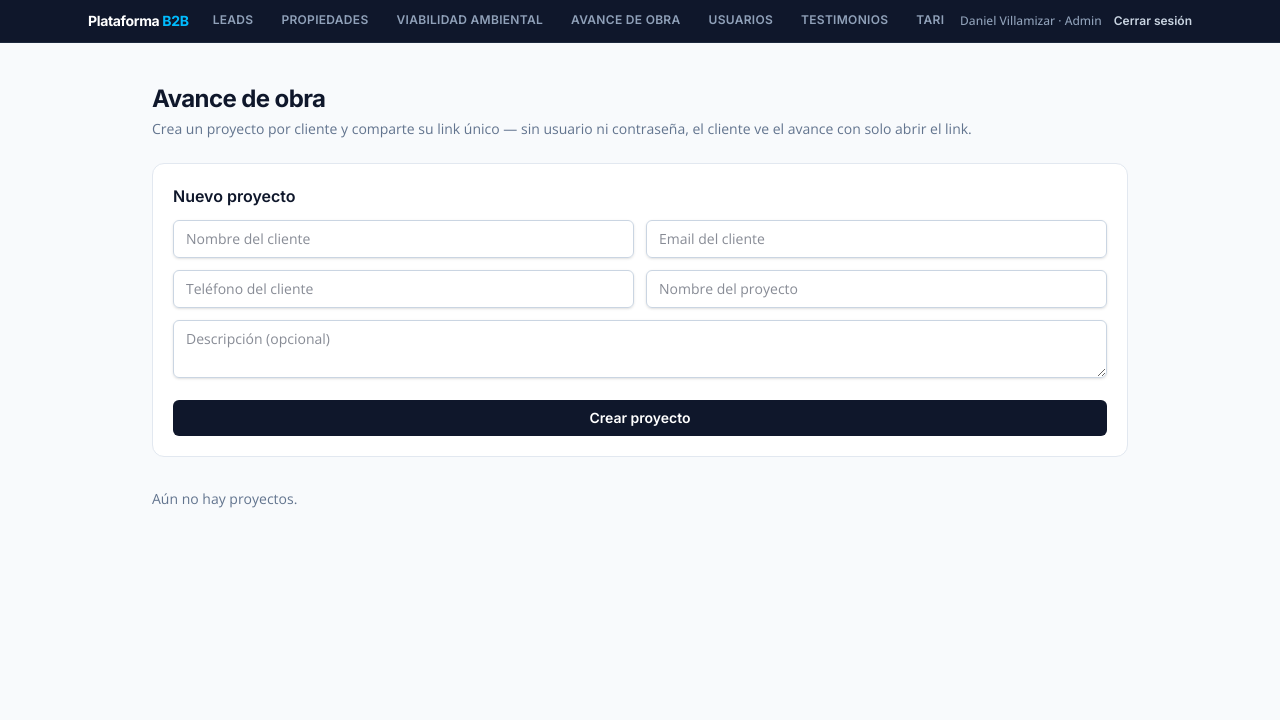
it: ObrasAdminPage › crear un proyecto muestra el link único para compartir con el cliente
Expected: the text "Aún no hay proyectos." is shown, [152, 489, 297, 508]
Type "Ana Restrepo" into the field with placeholder "Nombre del cliente" at coordinates (404, 239), box [173, 220, 634, 258]
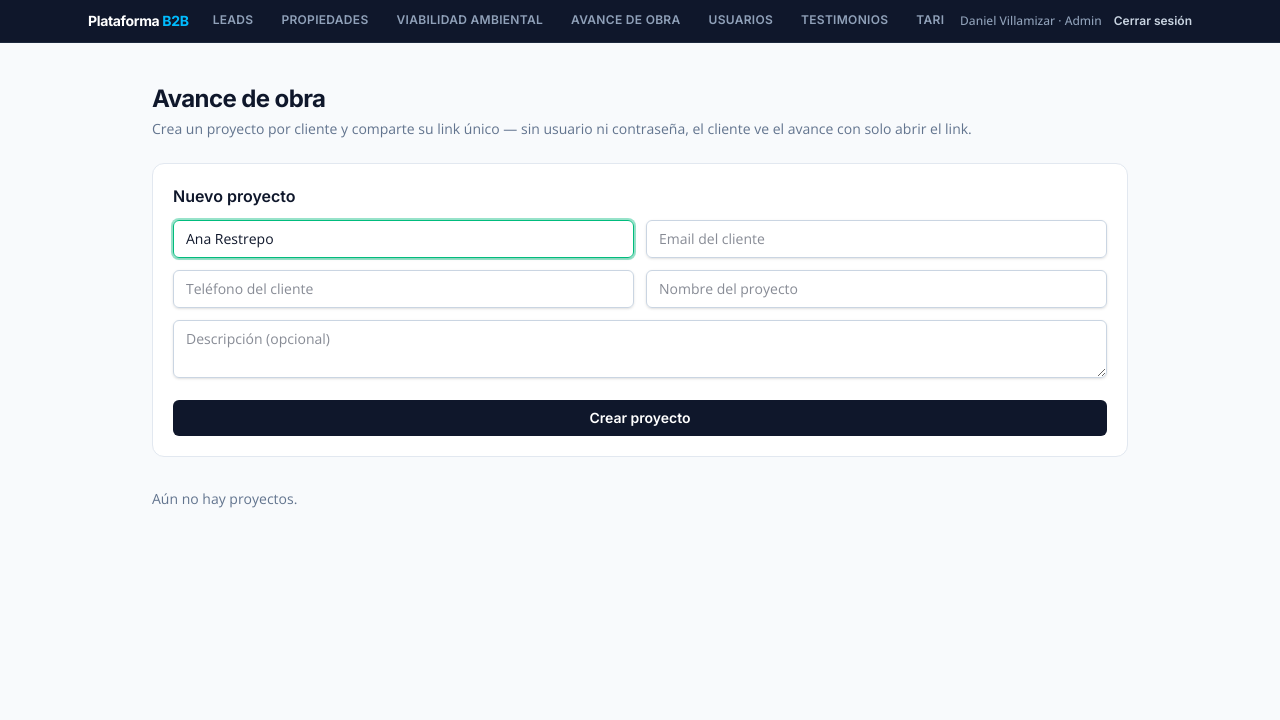
Type "ana@example.com" into the field with placeholder "Email del cliente" at coordinates (876, 239), box [646, 220, 1107, 258]
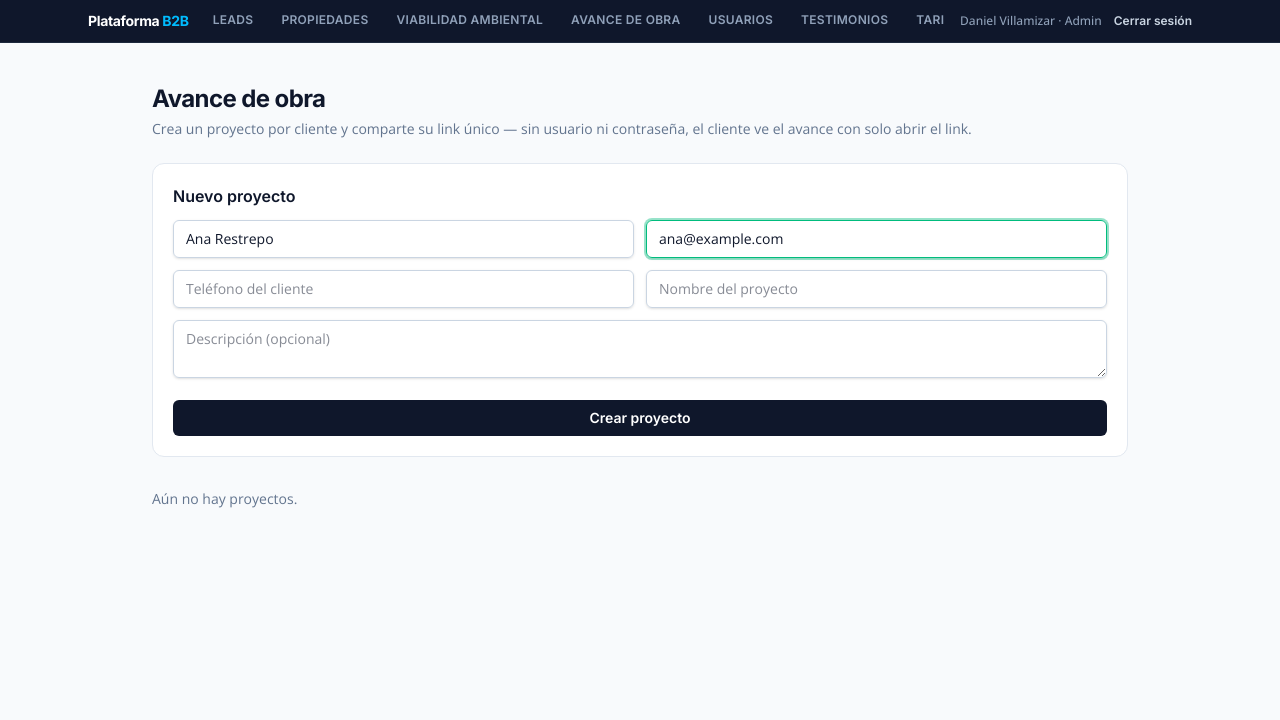
Type "3109876543" into the field with placeholder "Teléfono del cliente" at coordinates (404, 289), box [173, 270, 634, 308]
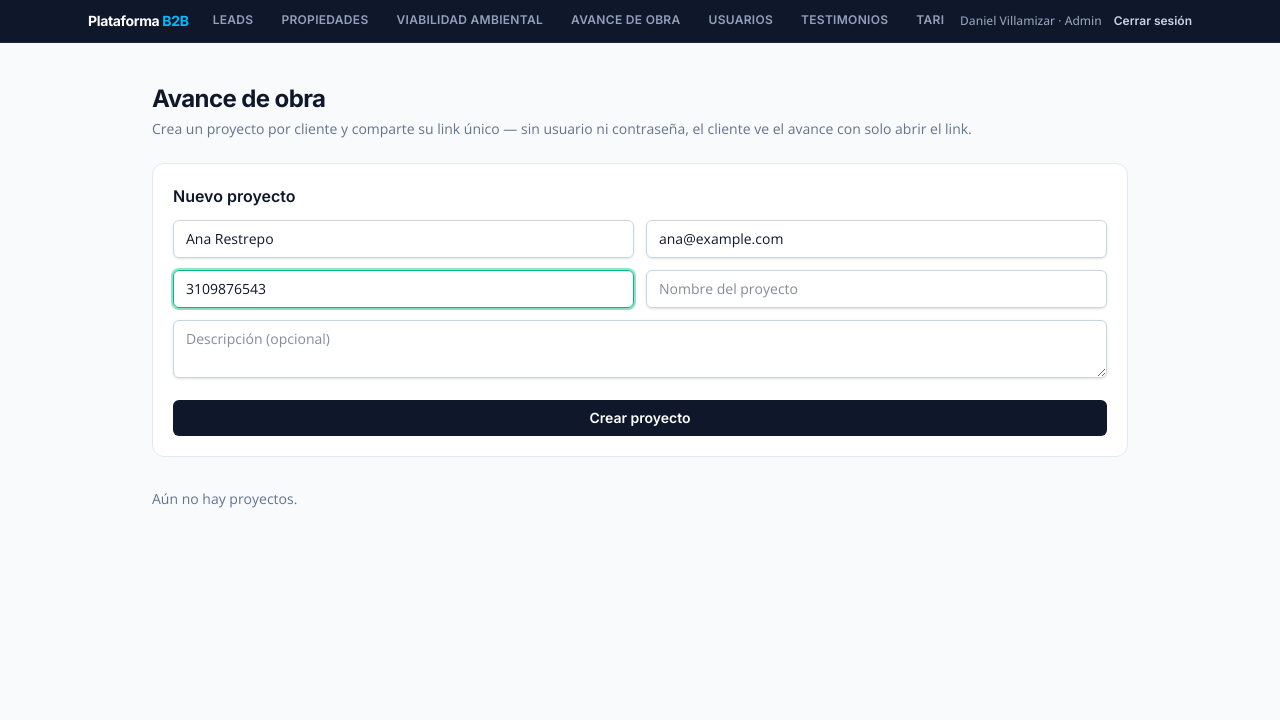
Type "Interventoría casa campestre" into the field with placeholder "Nombre del proyecto" at coordinates (876, 289), box [646, 270, 1107, 308]
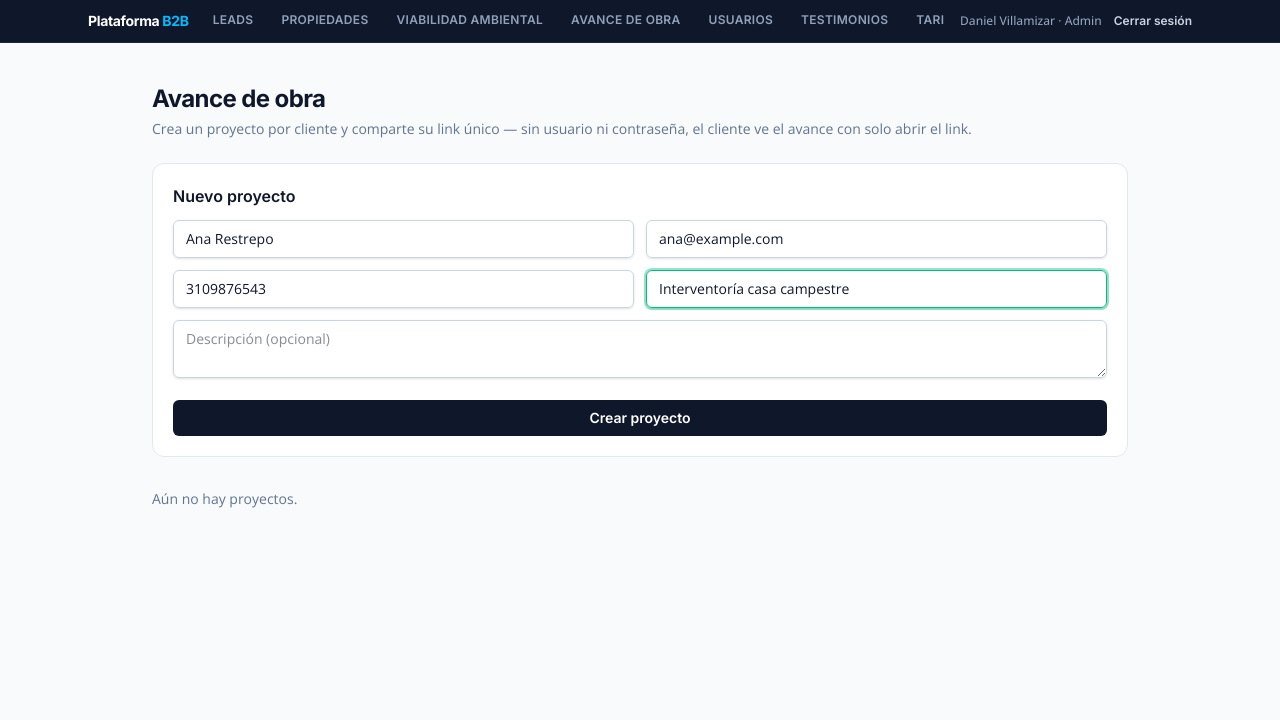
Click the button "Crear proyecto" at coordinates (640, 418), box [173, 400, 1107, 436]
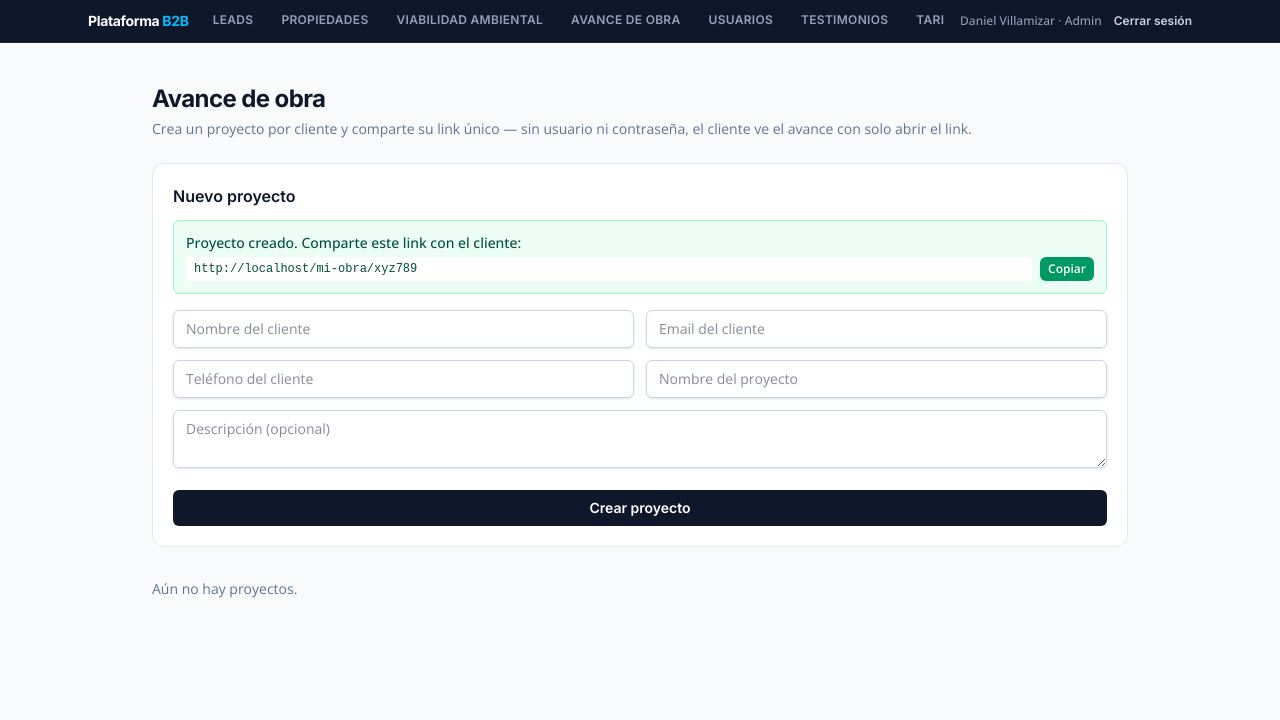
Expected: the text "http://localhost/mi-obra/xyz789" is shown, [186, 257, 1032, 281]
